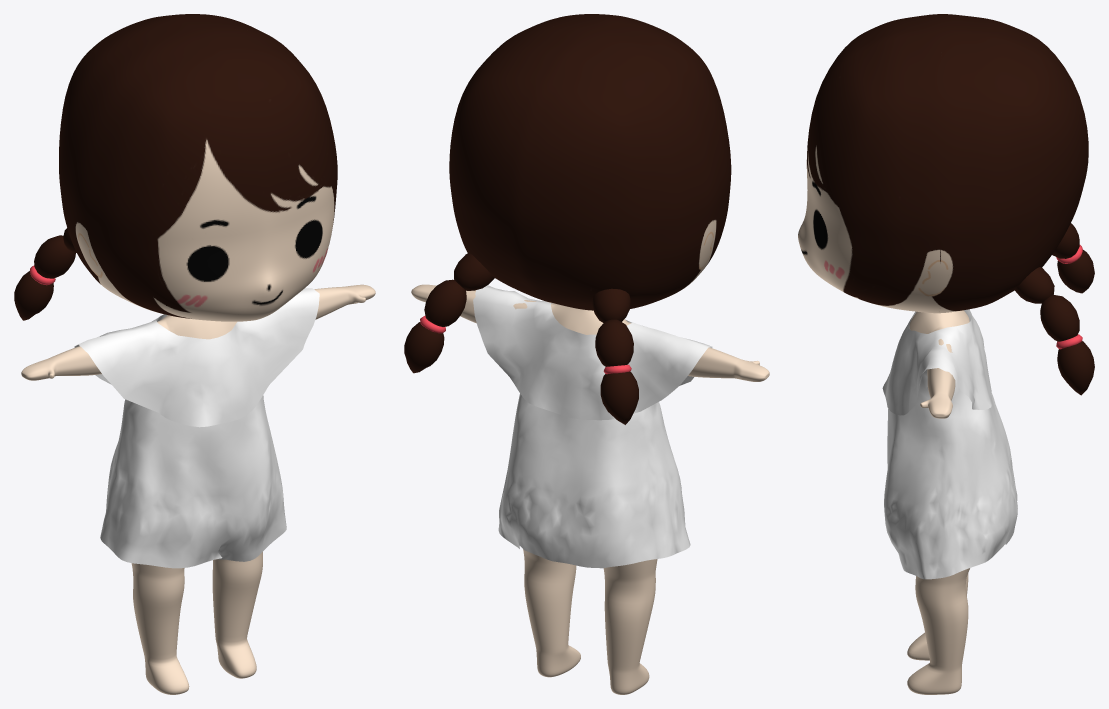
Rendered from chibi_character_with_dress_ohne_rig.fbx.
The picture shows the model from 3 angles, left to right: view 1: azimuth 30°, elevation 25°; view 2: azimuth 150°, elevation 25°; view 3: azimuth 270°, elevation 25°; orthographic projection.
Visible parts, largest first — view 1: Roundcube.005, CLO dress test, Roundcube.003; view 2: Roundcube.005, CLO dress test, Roundcube.003; view 3: Roundcube.005, CLO dress test, Roundcube.003.
Part boxes in pixels (left/top/right/bottom): Roundcube.005: left=21, top=14, right=375, bottom=694; CLO dress test: left=74, top=288, right=319, bottom=568; Roundcube.003: left=14, top=228, right=76, bottom=320; Roundcube.005: left=411, top=14, right=769, bottom=694; CLO dress test: left=473, top=285, right=712, bottom=568; Roundcube.003: left=404, top=252, right=638, bottom=424; Roundcube.005: left=798, top=14, right=1088, bottom=694; CLO dress test: left=882, top=309, right=1017, bottom=579; Roundcube.003: left=1014, top=223, right=1094, bottom=395.
Bounding box in the file's own units: 86.03 × 151 × 63.26.
4 materials, 2 textured.
